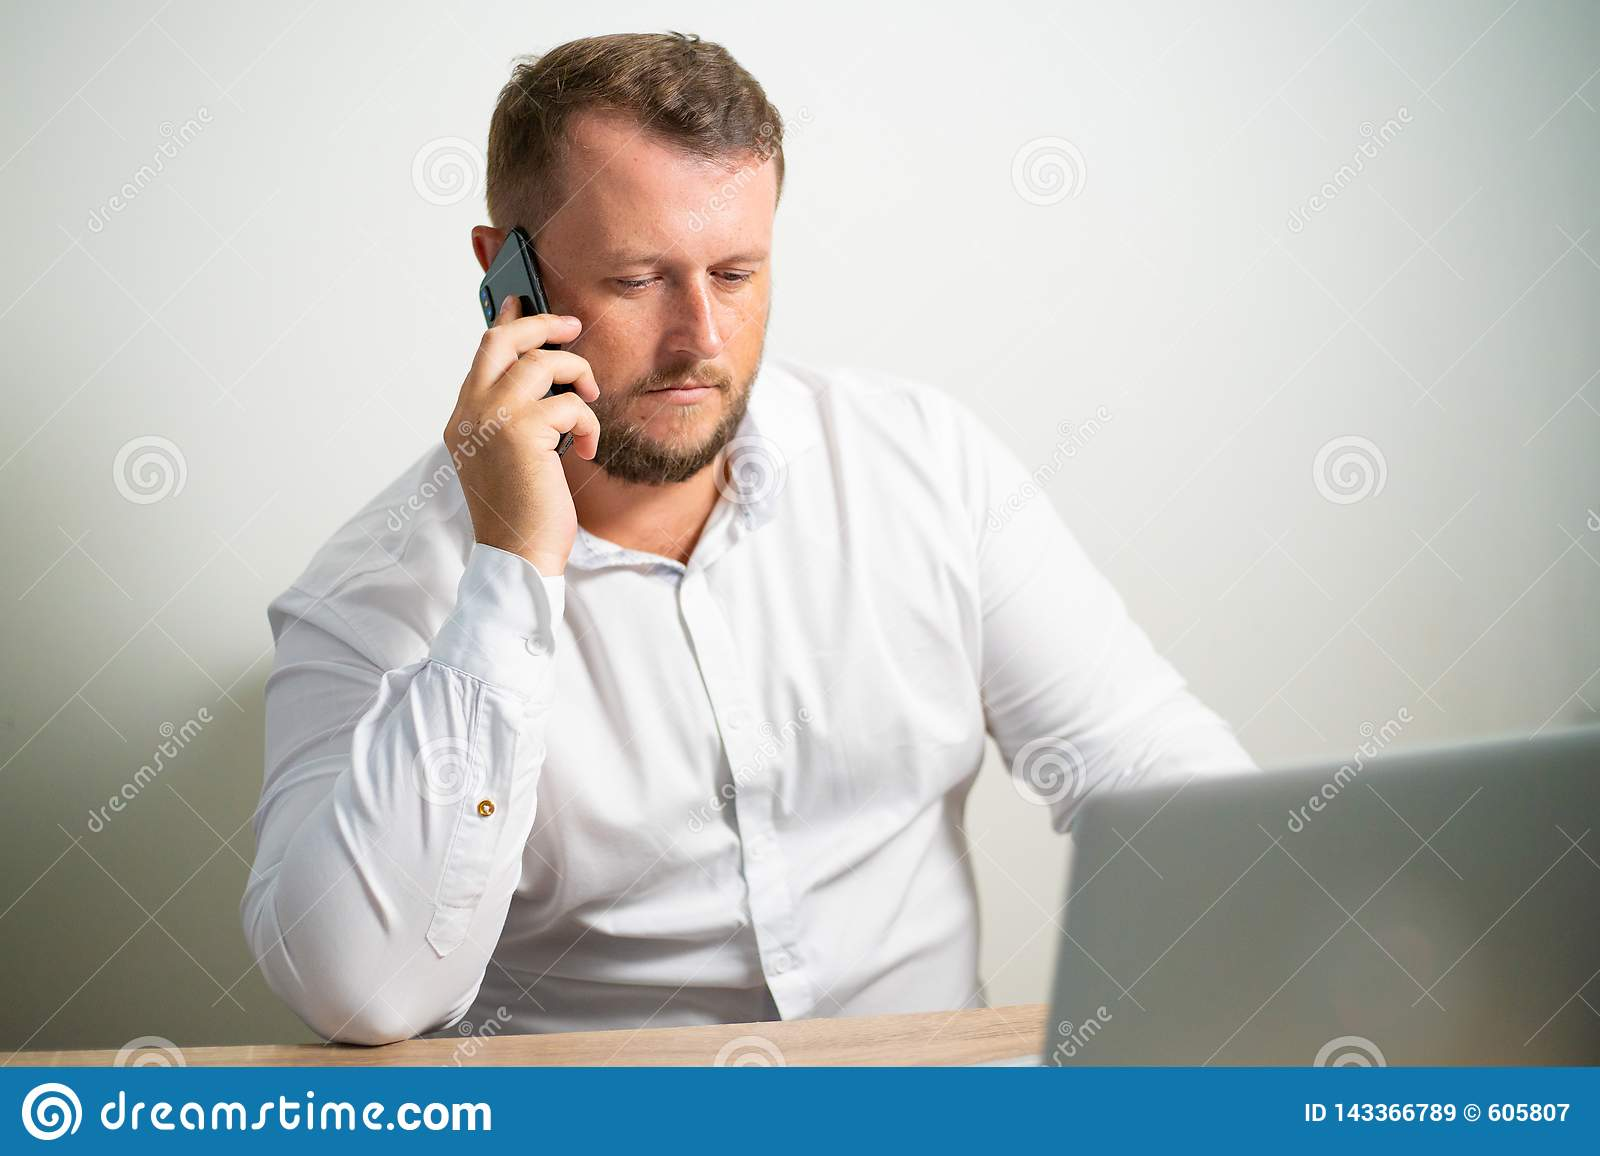phone: (477, 231, 571, 448)
talk: (439, 204, 776, 553)
